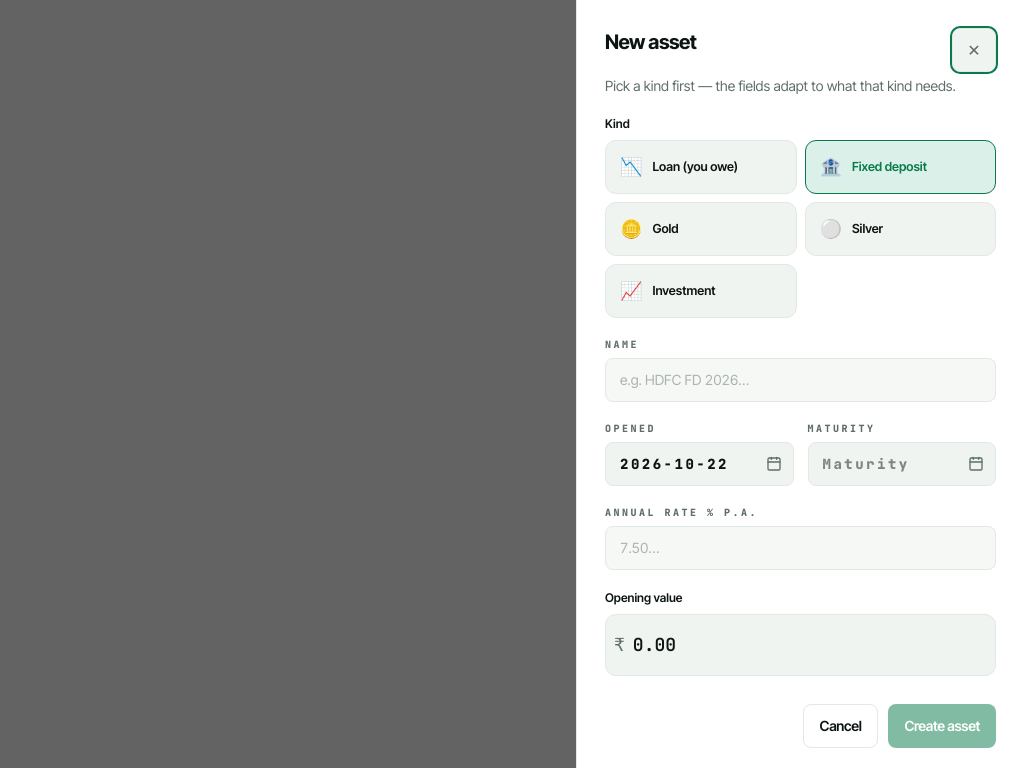
Test: CreateAssetDrawer › shows fixed-deposit fields by default and swaps to a quantity field for gold
Expected: the field labelled "Maturity" is shown, [808,442,996,486]
Expected: the field labelled "Annual rate % p.a." is shown, [605,526,996,570]
Step 1. Click the button "🪙 Gold" → click(701, 229), box [605,202,796,256]
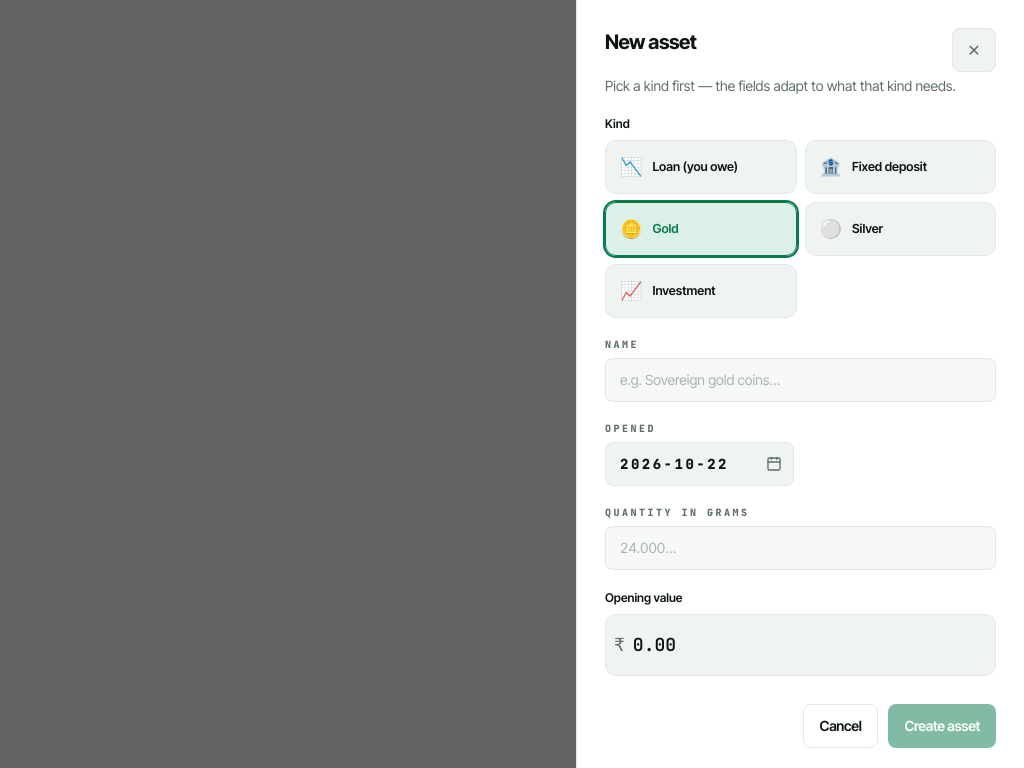
Now the text labelled "Maturity" is gone
Now the field labelled "Quantity in grams" is shown, box [605,526,996,570]
